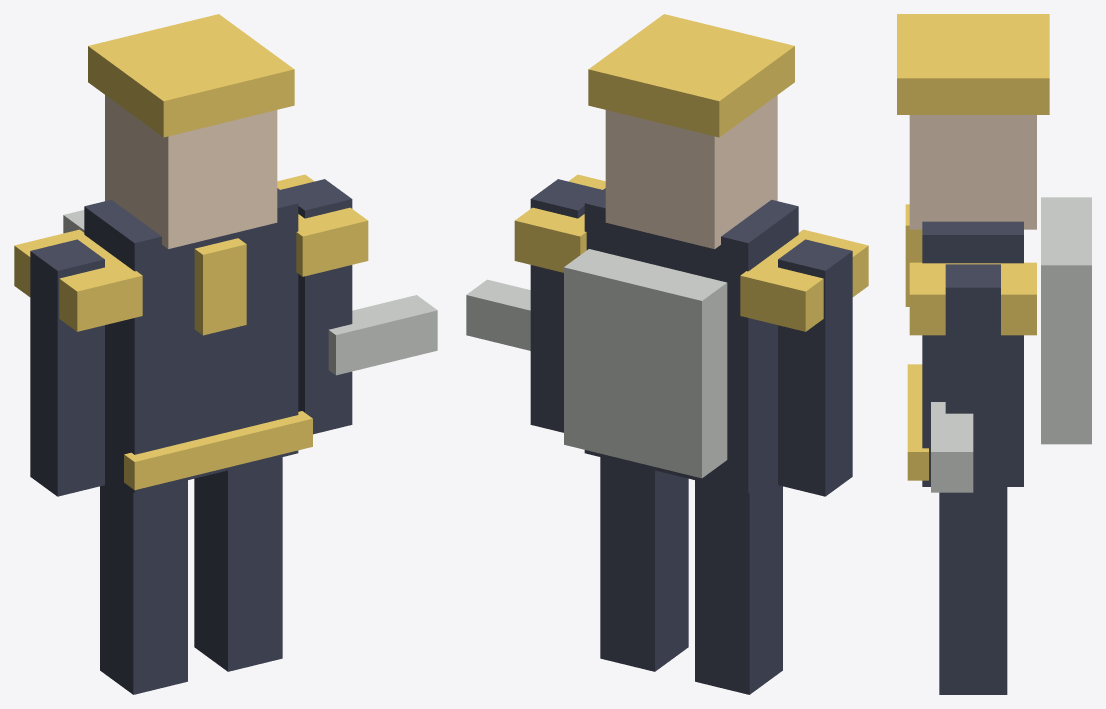
The model's file is 14_maelis_ashvein_watcher_near_turret.glb.
The picture shows the model from 3 angles, left to right: view 1: azimuth 30°, elevation 25°; view 2: azimuth 150°, elevation 25°; view 3: azimuth 270°, elevation 25°; orthographic projection.
Parts seen in each view (by area): view 1: Maelis Ashvein, Watcher near Turret; view 2: Maelis Ashvein, Watcher near Turret; view 3: Maelis Ashvein, Watcher near Turret.
Part boxes in pixels (left/top/right/bottom): Maelis Ashvein, Watcher near Turret: left=14, top=14, right=437, bottom=694; Maelis Ashvein, Watcher near Turret: left=466, top=14, right=868, bottom=694; Maelis Ashvein, Watcher near Turret: left=897, top=14, right=1091, bottom=694.
Bounding box in the file's own units: 1.09 × 1.7 × 0.4898.
